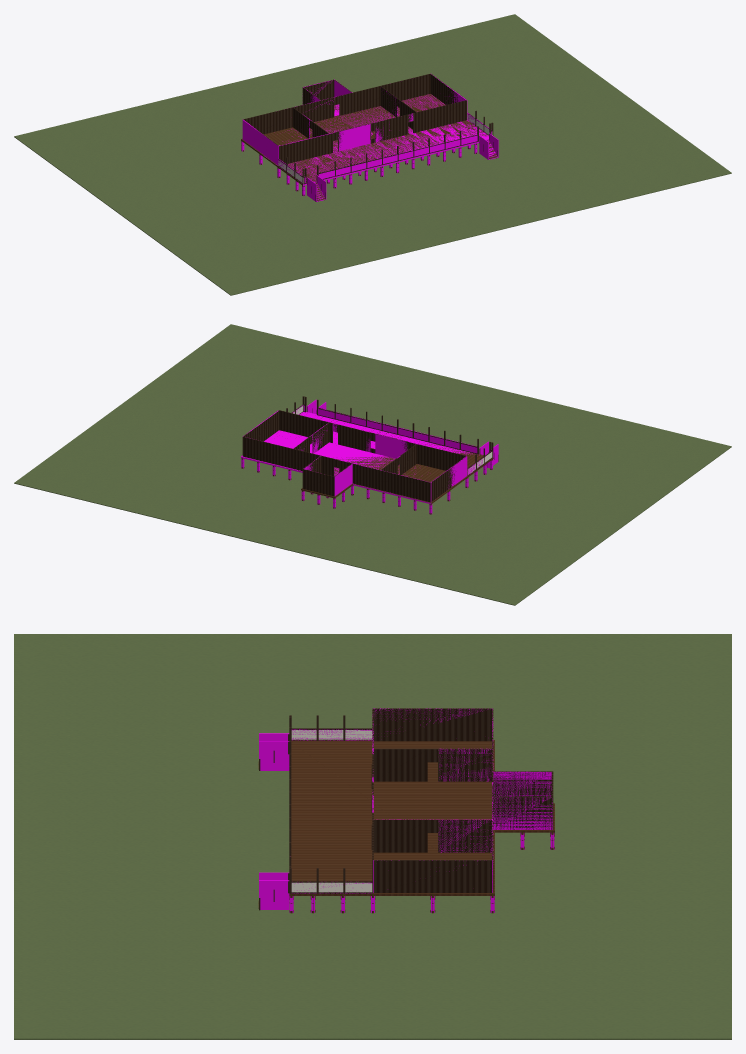
The model's file is eksterior.glb.
The picture shows the model from 3 angles, top to bottom: view 1: azimuth 30°, elevation 25°; view 2: azimuth 150°, elevation 25°; view 3: azimuth 270°, elevation 25°; orthographic projection. The views are drawn at different scales.
Visible parts, largest first — view 1: tanah_slab, lantai_slab, col_lantai, dinding_belakang, dinding_depan, col_bal_1, dinding_sekat, pagar_kayu, col_side_l, col_front_1, dinding_atang, dinding_kanan; view 2: tanah_slab, dinding_belakang, col_lantai, dinding_depan, lantai_slab, col_bal_1, dinding_sekat, dinding_atang, pagar_kayu, col_front_1, dinding_kanan, dinding_kiri; view 3: tanah_slab, lantai_slab, dinding_sekat, dinding_kiri, dinding_kanan, dinding_atang, col_rail_r (×2), col_atang_r_0, col_atang_l_0, pagar_sisi_kanan_panel, pagar_sisi_kiri_panel, col_sekat_r_a_0.
Boxes of the visible parts, bbox=[...] form: tanah_slab: bbox=[14, 14, 731, 295]; lantai_slab: bbox=[241, 94, 488, 185]; col_lantai: bbox=[264, 94, 488, 185]; dinding_belakang: bbox=[243, 73, 430, 134]; dinding_depan: bbox=[279, 100, 466, 163]; col_bal_1: bbox=[318, 134, 477, 178]; dinding_sekat: bbox=[293, 86, 416, 138]; pagar_kayu: bbox=[303, 123, 492, 184]; col_side_l: bbox=[242, 119, 278, 165]; col_front_1: bbox=[338, 124, 370, 151]; dinding_atang: bbox=[302, 79, 351, 104]; dinding_kanan: bbox=[430, 74, 462, 104]; tanah_slab: bbox=[14, 324, 731, 605]; dinding_belakang: bbox=[242, 436, 430, 502]; col_lantai: bbox=[241, 412, 479, 504]; dinding_depan: bbox=[279, 410, 466, 470]; lantai_slab: bbox=[298, 416, 493, 503]; col_bal_1: bbox=[318, 408, 477, 453]; dinding_sekat: bbox=[293, 423, 416, 474]; dinding_atang: bbox=[302, 456, 352, 496]; pagar_kayu: bbox=[303, 396, 491, 454]; col_front_1: bbox=[375, 434, 407, 458]; dinding_kanan: bbox=[243, 410, 279, 441]; dinding_kiri: bbox=[431, 456, 466, 501]; tanah_slab: bbox=[14, 634, 731, 1039]; lantai_slab: bbox=[289, 740, 494, 895]; dinding_sekat: bbox=[373, 748, 491, 852]; dinding_kiri: bbox=[373, 708, 491, 741]; dinding_kanan: bbox=[373, 860, 491, 892]; dinding_atang: bbox=[493, 771, 553, 829]; col_rail_r (×2): bbox=[259, 741, 289, 909]; col_atang_r_0: bbox=[493, 796, 552, 829]; col_atang_l_0: bbox=[492, 771, 551, 796]; pagar_sisi_kanan_panel: bbox=[291, 882, 372, 892]; pagar_sisi_kiri_panel: bbox=[291, 730, 372, 739]; col_sekat_r_a_0: bbox=[438, 819, 491, 852].
Size of the model in its own units: 80 by 5.4 by 60.
5 materials, 3 textured.
